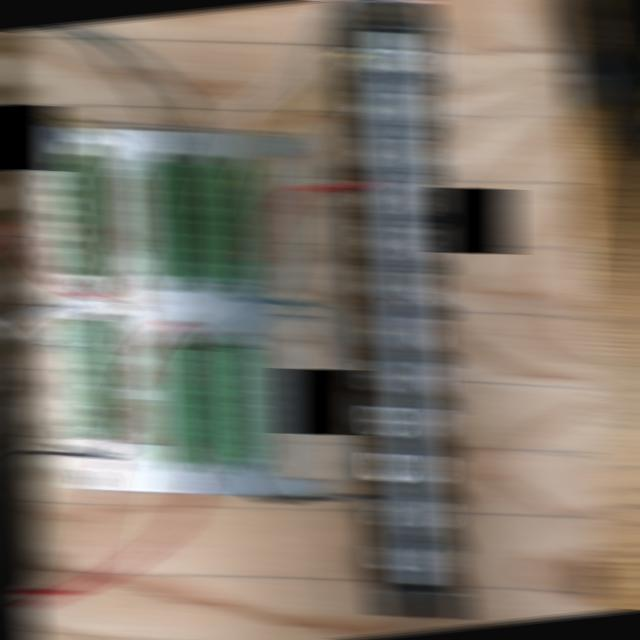Phillips_Block: (337, 0, 468, 623)
Terminal_1: (58, 150, 107, 279), (67, 315, 117, 441)
Terminal_2: (173, 159, 221, 282), (136, 157, 183, 280), (211, 163, 258, 285), (148, 344, 196, 463), (184, 347, 230, 465)
